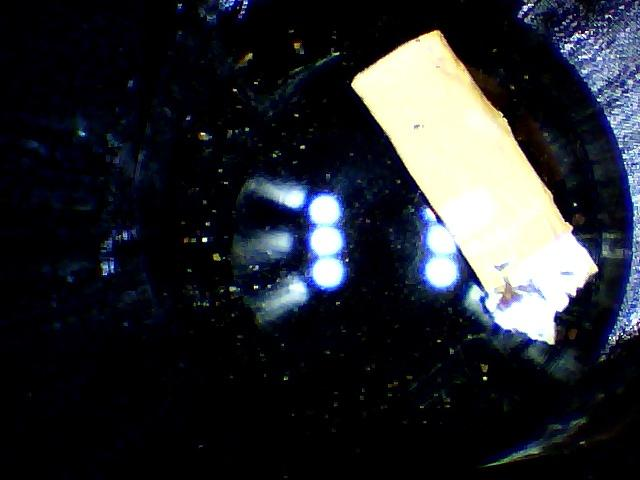megot: (332, 18, 612, 357)
